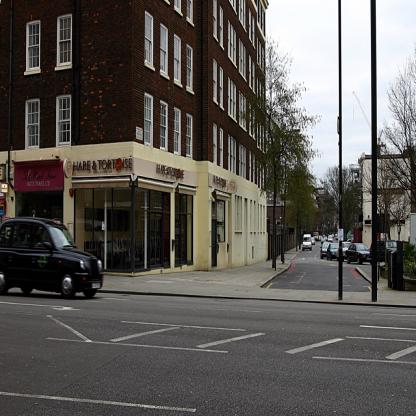Car: (2, 215, 102, 301), (318, 230, 372, 263), (300, 230, 312, 252)
